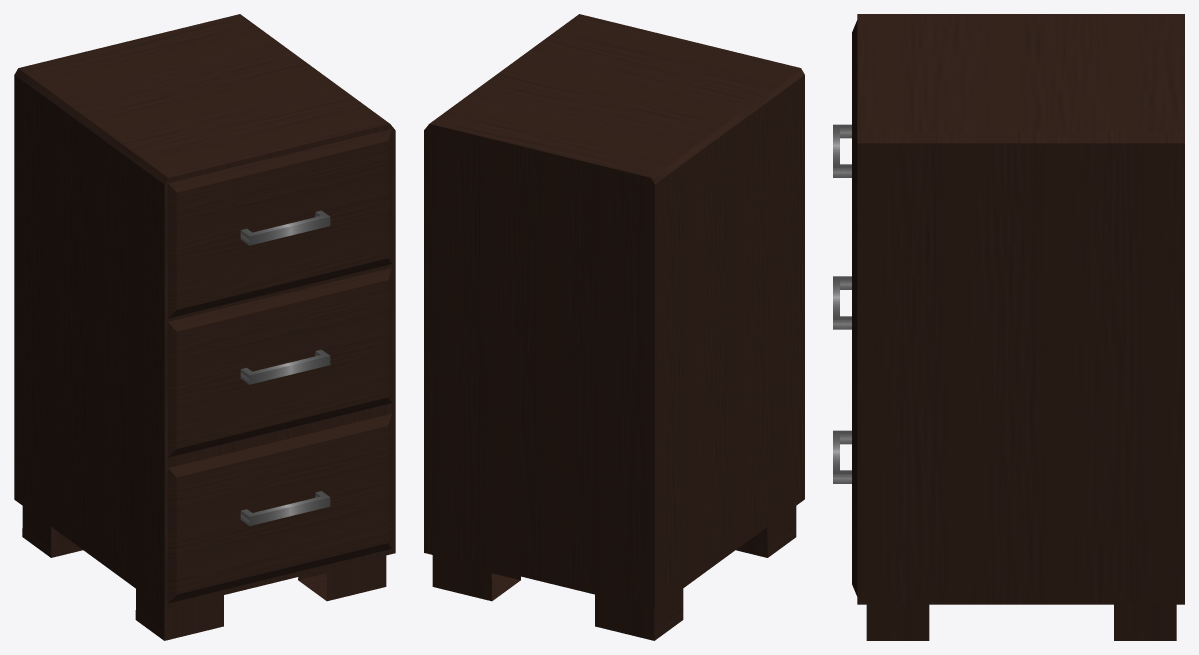
Rendered from Highboy_A.FBX.
3 renders of one model, left to right at view 1: azimuth 30°, elevation 25°; view 2: azimuth 150°, elevation 25°; view 3: azimuth 270°, elevation 25°, orthographic. The views are drawn at different scales.
Visible parts, largest first — view 1: Nightstand; view 2: Nightstand; view 3: Nightstand.
Part boxes in pixels (x1=…): Nightstand: x1=14, y1=14, x2=395, y2=640; Nightstand: x1=424, y1=14, x2=804, y2=640; Nightstand: x1=833, y1=14, x2=1184, y2=640.
Size of the model in its own units: 124 by 240 by 150.
